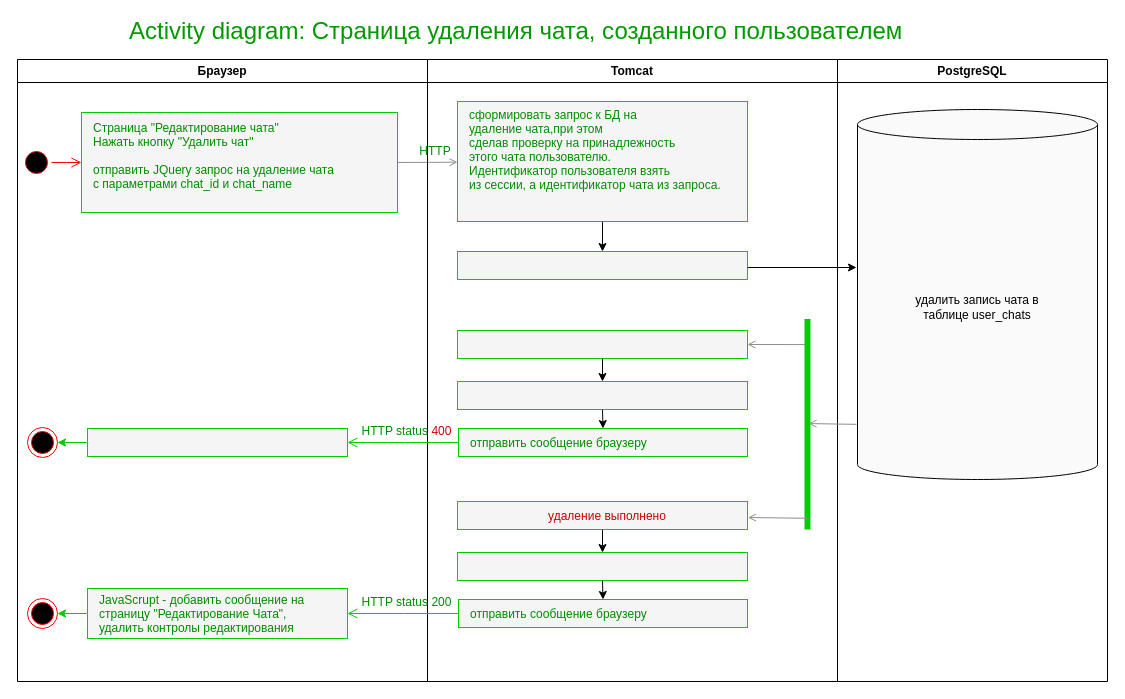
Image size: 1125x699. Some labels were removed from this diagram. Each missing label, with the centre of its shape:
JavaScrupt - добавить сообщение на страницу "Редактирование Чата": point (217, 442)
запросить удаление в БД: point (602, 265)
ошибка: point (602, 344)
сформировать HTML код сообщения о удалении чата: point (602, 566)
сформировать HTML код сообщения об ошибке: point (602, 395)
